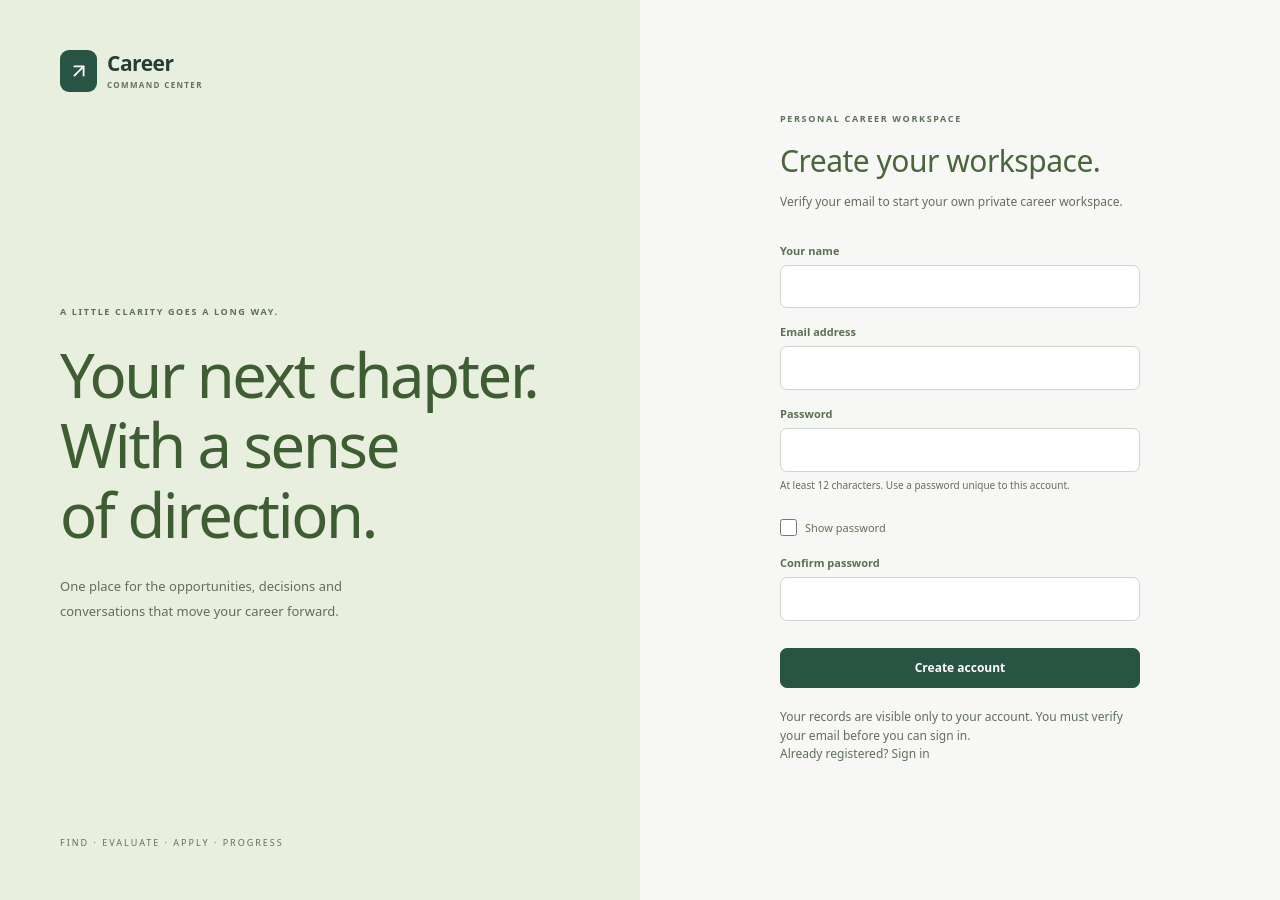
verified signup › shows email delivery failure without pretending signup succeeded
Check: the button "Create account" is shown, box [780,648,1140,688]
Type "Test" into the field labelled "Your name".
click(960, 286); type("Test")  # box [780,265,1140,308]
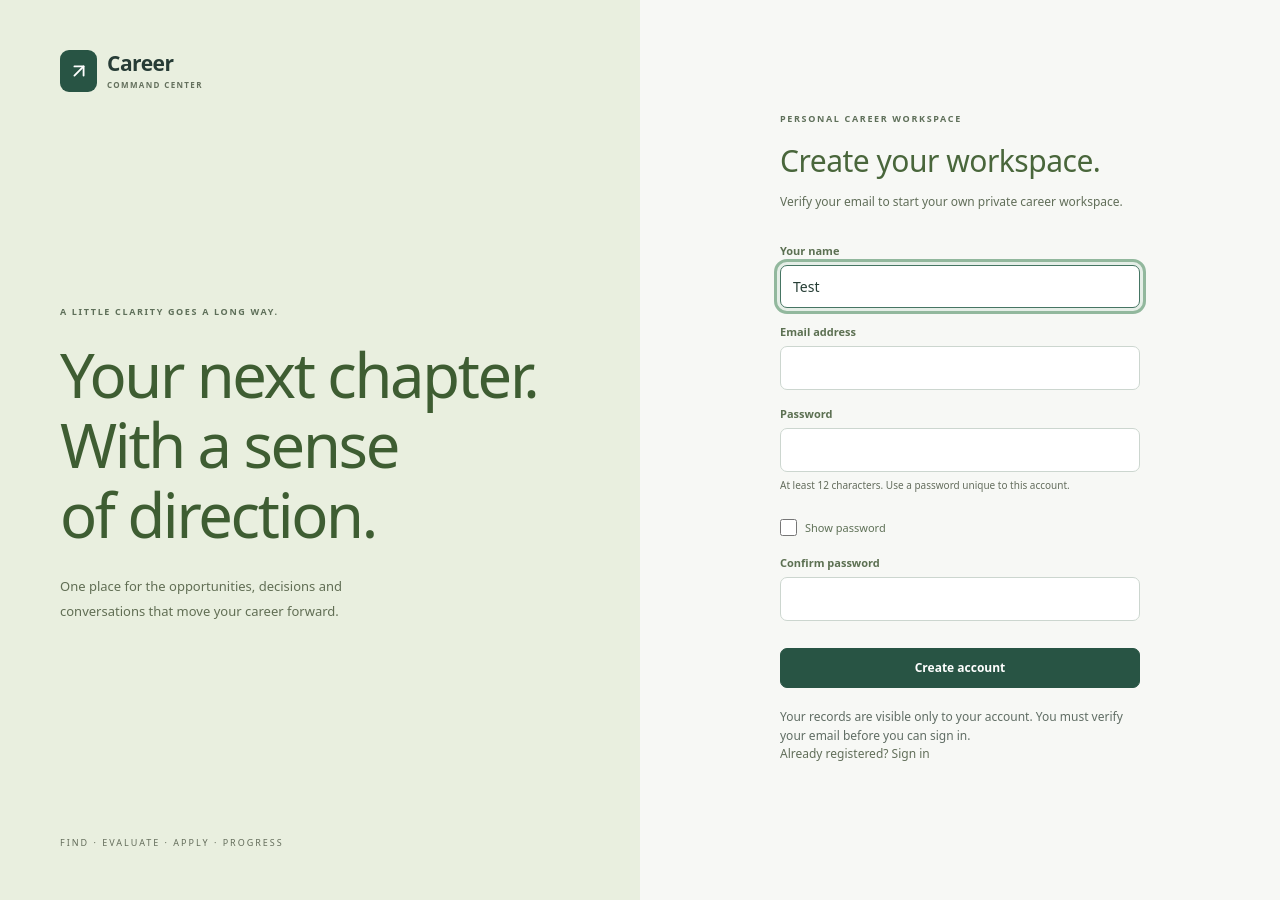
Type "new@example.test" into the field labelled "Email address".
click(960, 368); type("new@example.test")  # box [780,346,1140,390]
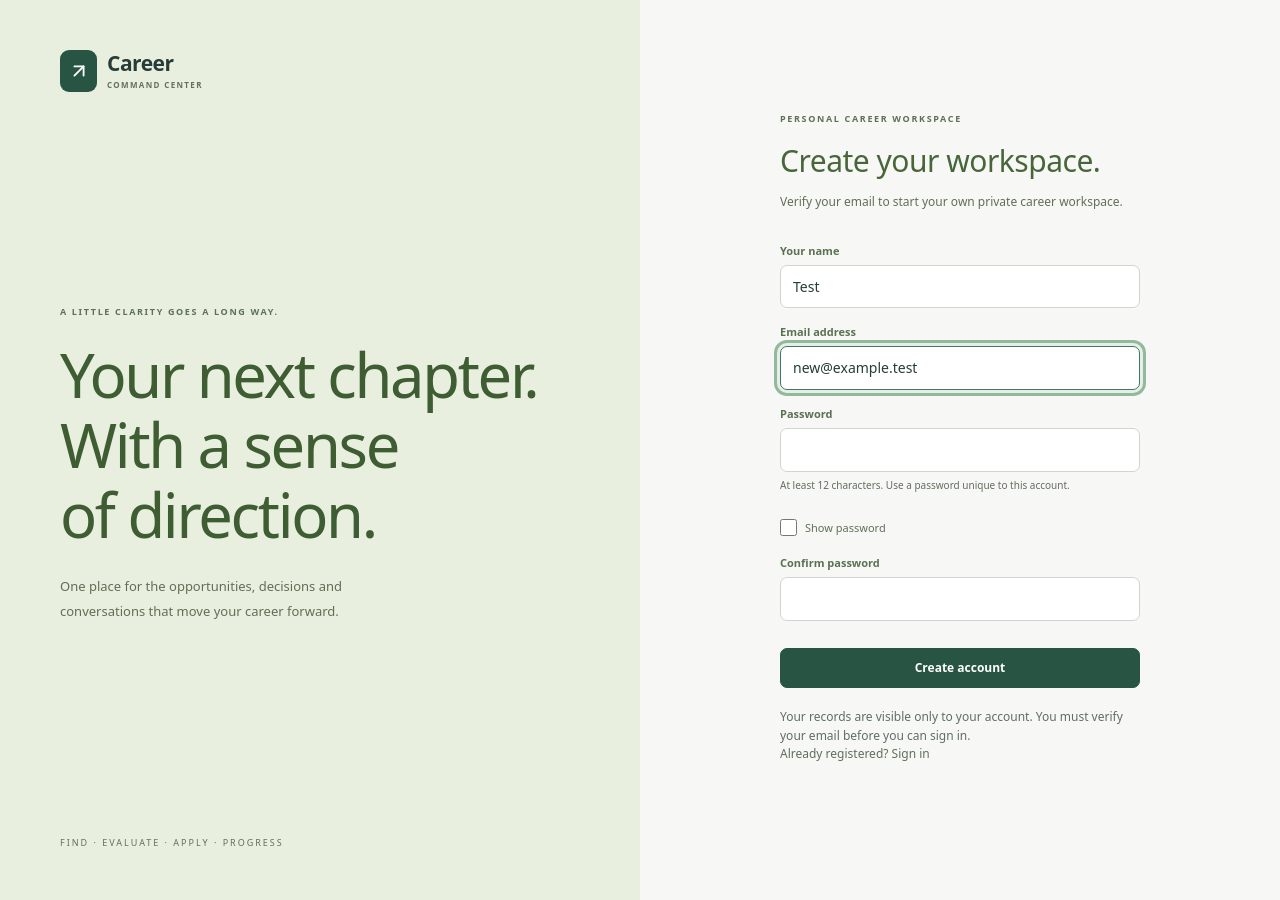
Type "long-test-password" into the password field labelled "Password".
click(960, 450); type("long-test-password")  # box [780,428,1140,472]
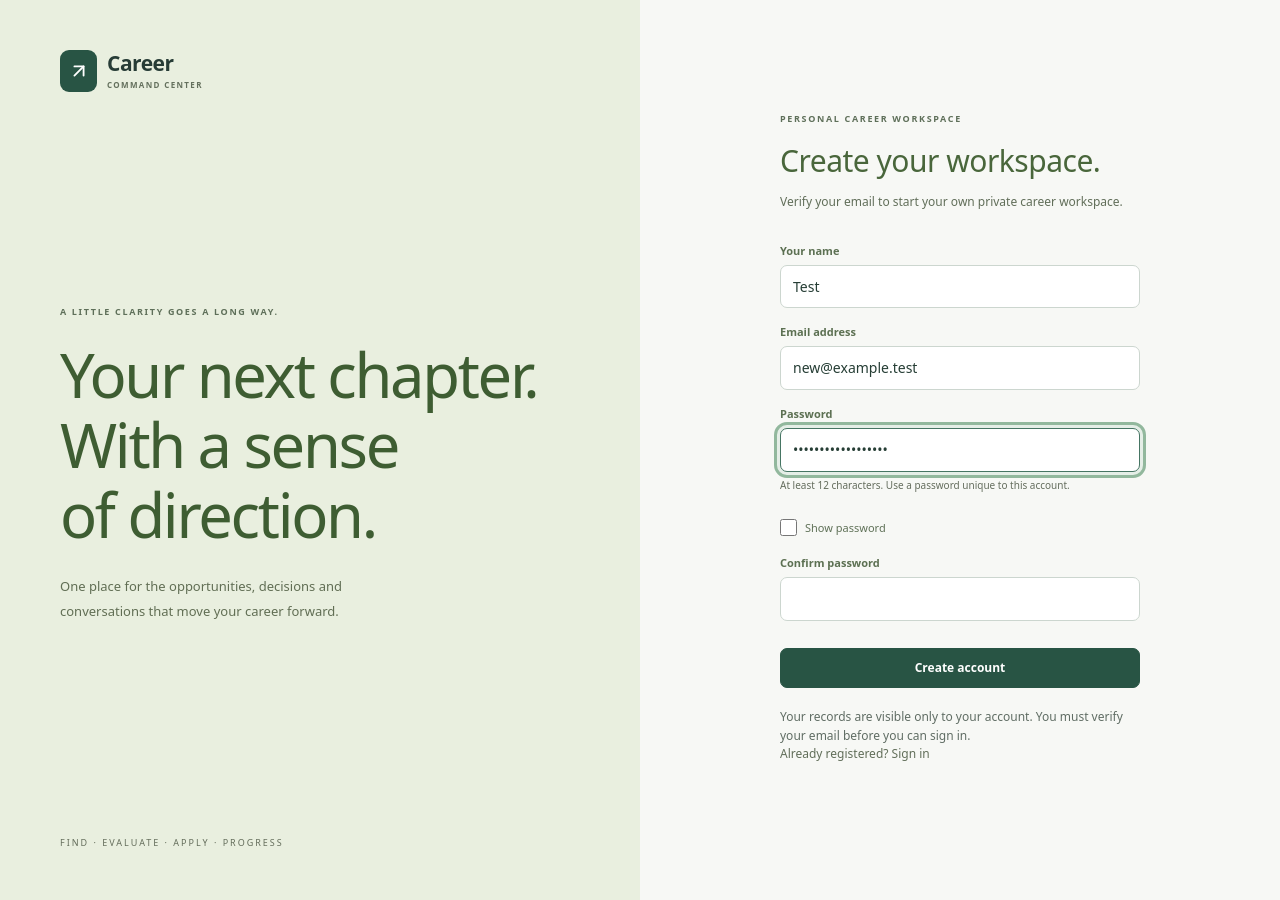
Type "long-test-password" into the password field labelled "Confirm password".
click(960, 599); type("long-test-password")  # box [780,577,1140,621]
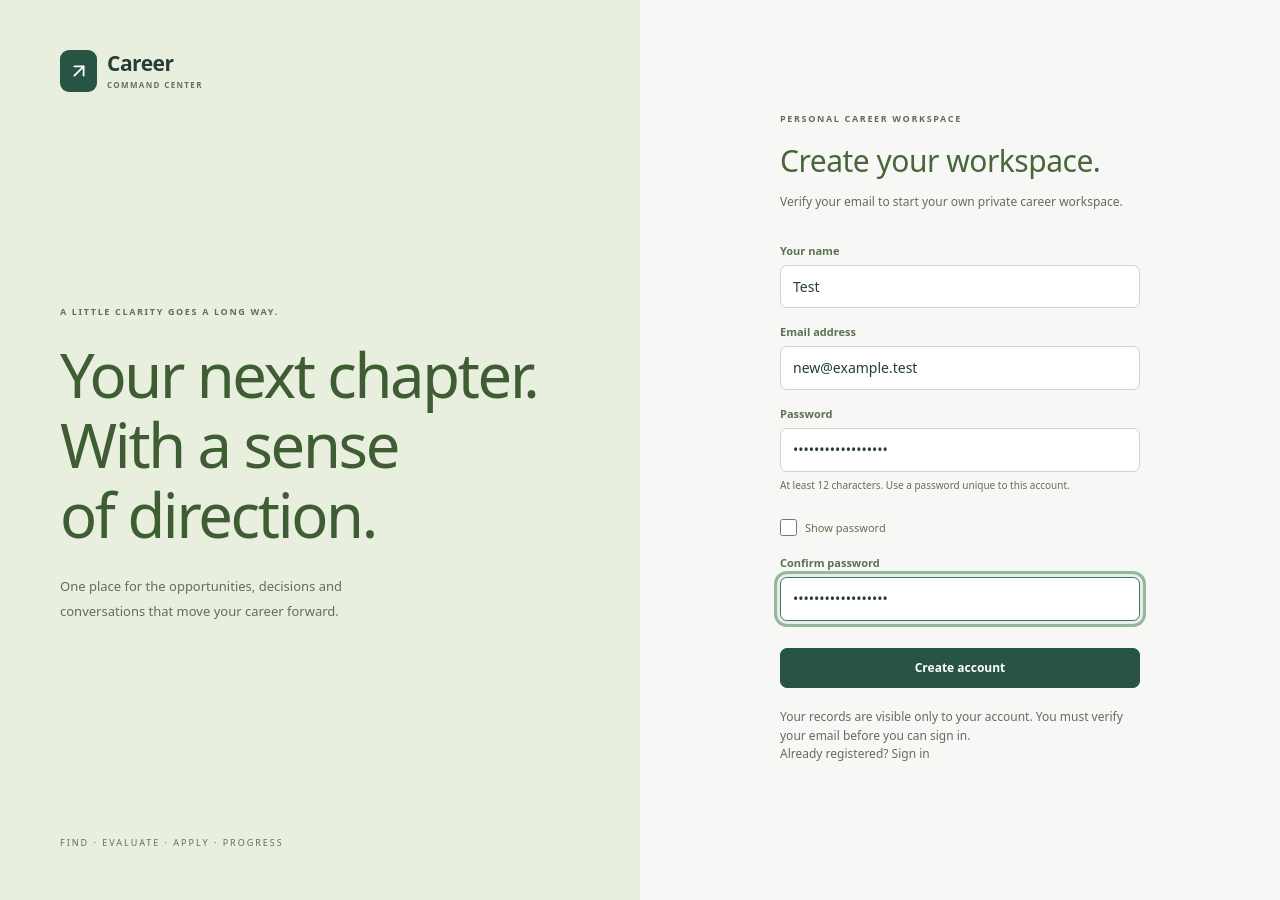
Click the button "Create account".
click(960, 668)  # box [780,648,1140,688]
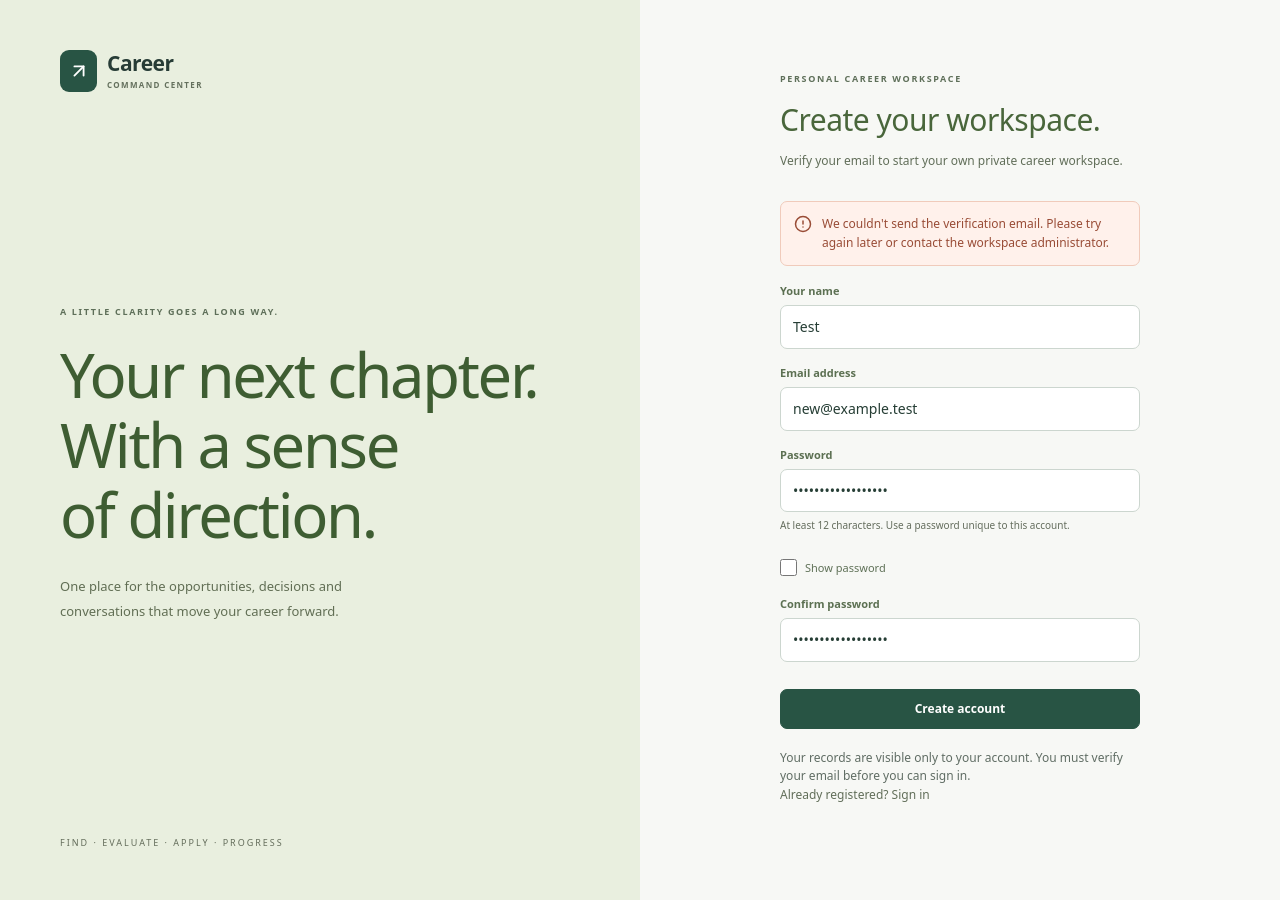
Check: the message shows "couldn't send the verification email", box [822,215,1109,250]
